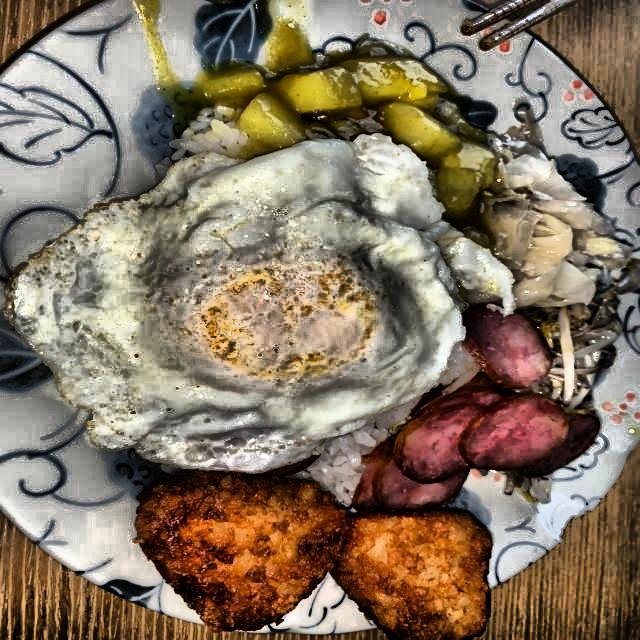Food: (16, 134, 464, 476), (132, 470, 496, 640), (390, 300, 588, 515), (240, 53, 490, 147), (491, 154, 614, 301), (544, 304, 608, 404), (312, 428, 375, 500), (177, 112, 237, 157)
